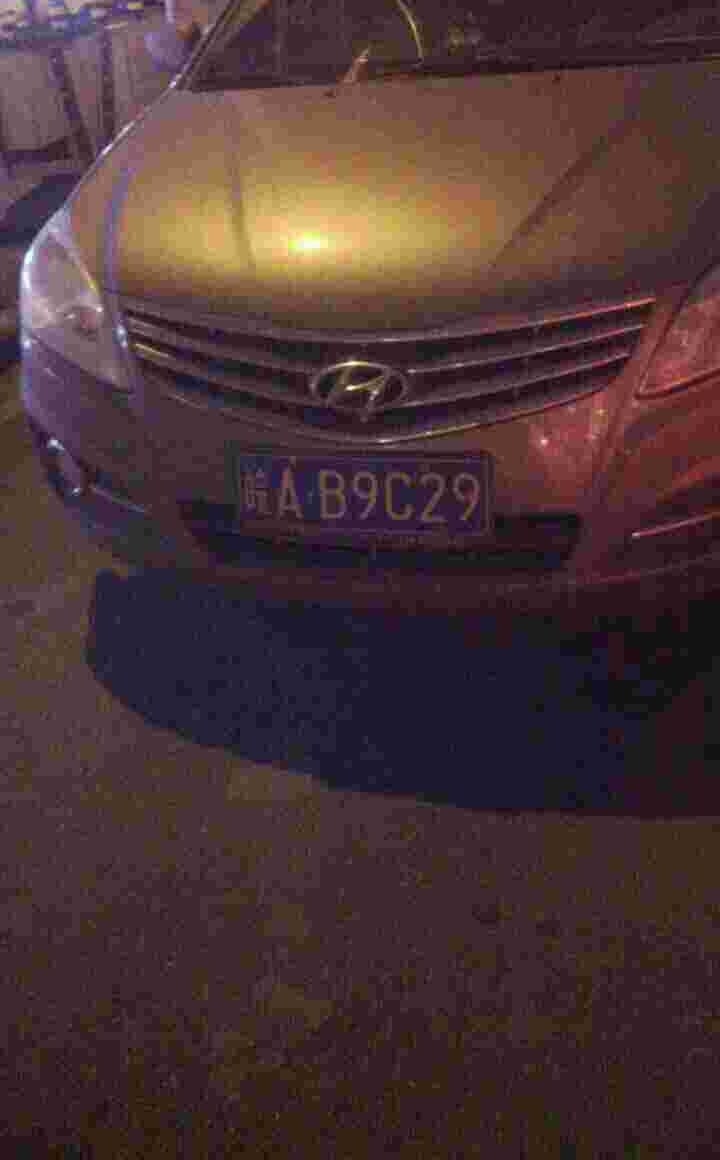plate: (233, 449, 495, 540)
